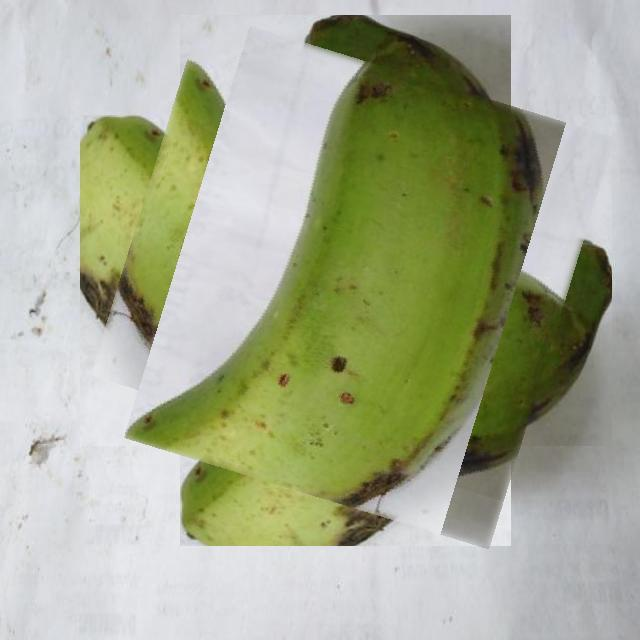Verde: (104, 38, 588, 523)
